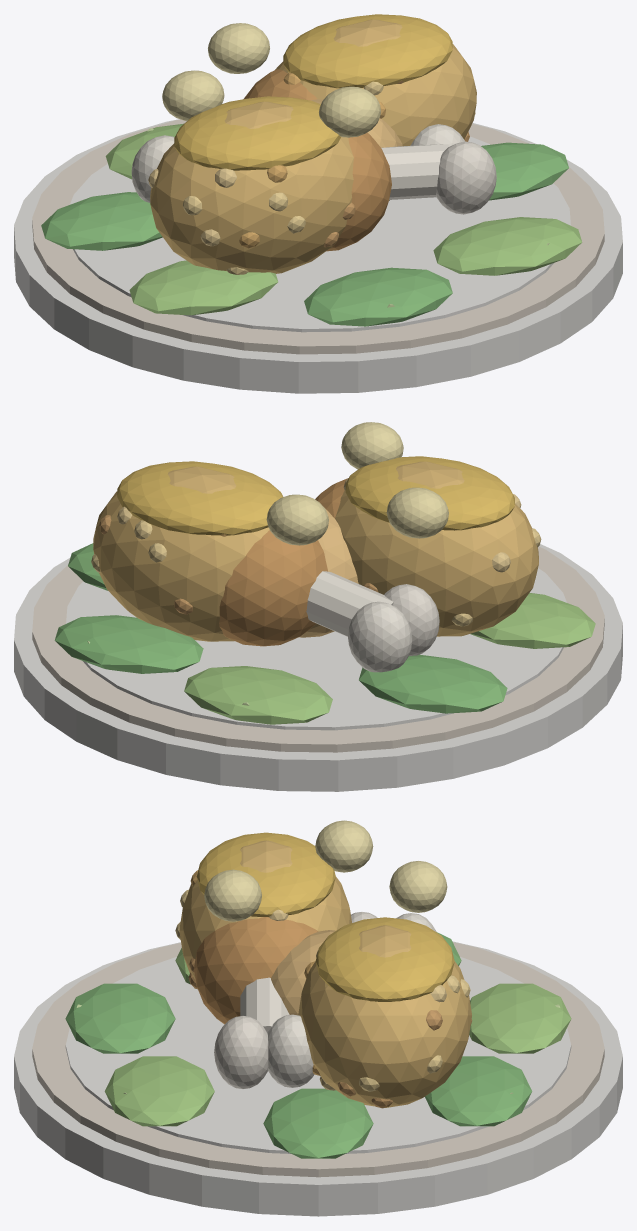
The model's file is honey.glb.
The picture shows the model from 3 angles, top to bottom: view 1: azimuth 30°, elevation 25°; view 2: azimuth 150°, elevation 25°; view 3: azimuth 270°, elevation 25°; orthographic projection.
Visible parts, largest first — view 1: obj_0000, obj_0002, obj_0001, obj_0017, obj_0079, obj_0045, obj_0051, obj_0005, obj_0007, obj_0009, obj_0011, obj_0018 (+11 smaller); view 2: obj_0000, obj_0001, obj_0002, obj_0017, obj_0051, obj_0052, obj_0079, obj_0013, obj_0045, obj_0015, obj_0011, obj_0009 (+9 smaller); view 3: obj_0000, obj_0001, obj_0002, obj_0051, obj_0079, obj_0018, obj_0005, obj_0007, obj_0003, obj_0045, obj_0013, obj_0015 (+8 smaller).
Boxes of the visible parts, bbox=[...] form: obj_0000: bbox=[14, 119, 622, 393]; obj_0002: bbox=[70, 136, 570, 332]; obj_0001: bbox=[32, 119, 604, 354]; obj_0017: bbox=[150, 101, 353, 273]; obj_0079: bbox=[283, 14, 452, 88]; obj_0045: bbox=[174, 96, 340, 170]; obj_0051: bbox=[274, 19, 476, 146]; obj_0005: bbox=[433, 217, 582, 275]; obj_0007: bbox=[304, 267, 452, 326]; obj_0009: bbox=[129, 260, 278, 315]; obj_0011: bbox=[41, 192, 162, 250]; obj_0018: bbox=[326, 132, 391, 251]; obj_0000: bbox=[14, 544, 622, 791]; obj_0001: bbox=[32, 546, 604, 752]; obj_0002: bbox=[66, 568, 566, 730]; obj_0017: bbox=[335, 461, 538, 636]; obj_0051: bbox=[93, 466, 269, 641]; obj_0052: bbox=[219, 530, 327, 646]; obj_0079: bbox=[117, 461, 283, 535]; obj_0013: bbox=[184, 666, 332, 724]; obj_0045: bbox=[345, 456, 514, 530]; obj_0015: bbox=[54, 615, 203, 673]; obj_0011: bbox=[359, 654, 507, 713]; obj_0009: bbox=[470, 593, 595, 648]; obj_0000: bbox=[14, 941, 622, 1216]; obj_0001: bbox=[32, 942, 604, 1177]; obj_0002: bbox=[65, 957, 571, 1153]; obj_0051: bbox=[298, 925, 471, 1107]; obj_0079: bbox=[315, 917, 454, 1001]; obj_0018: bbox=[194, 917, 318, 1024]; obj_0005: bbox=[104, 1056, 214, 1126]; obj_0007: bbox=[65, 983, 175, 1053]; obj_0003: bbox=[263, 1088, 373, 1158]; obj_0045: bbox=[196, 832, 335, 916]; obj_0013: bbox=[469, 983, 571, 1053]; obj_0015: bbox=[425, 1056, 532, 1126].
Bounding box in the file's own units: 2.1 × 0.795 × 2.1.
